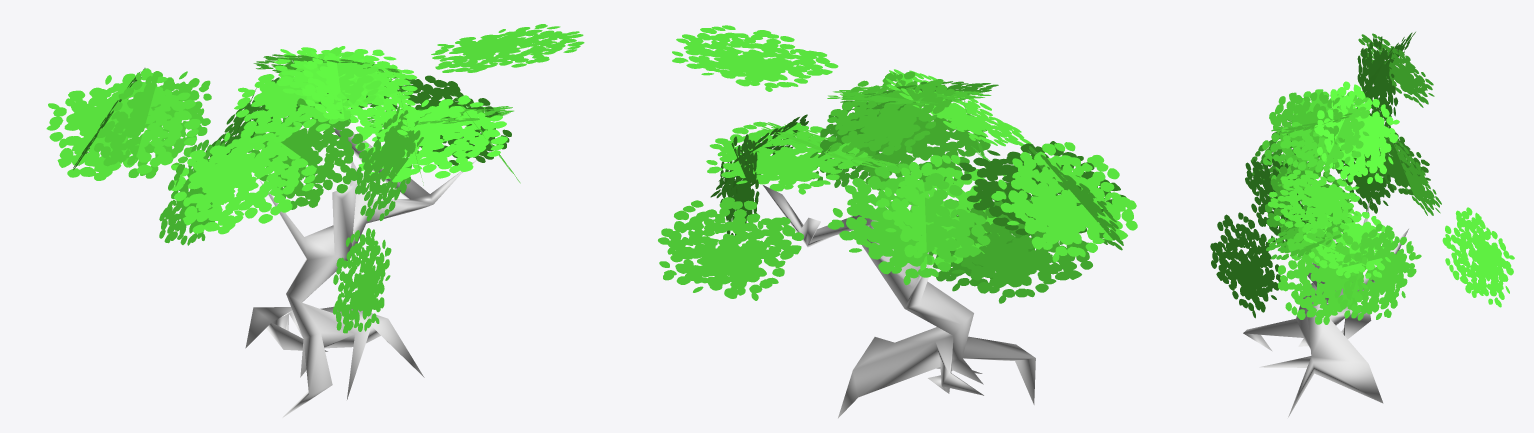
File: TreeA 2 LOD2.fbx
3 renders of one model, left to right at view 1: azimuth 30°, elevation 25°; view 2: azimuth 150°, elevation 25°; view 3: azimuth 270°, elevation 25°, orthographic. The views are drawn at different scales.
Visible parts, largest first — view 1: TreeA 2 LOD2; view 2: TreeA 2 LOD2; view 3: TreeA 2 LOD2.
Part boxes in pixels (x1=…): TreeA 2 LOD2: x1=46, y1=24, x2=584, y2=417; TreeA 2 LOD2: x1=658, y1=25, x2=1137, y2=418; TreeA 2 LOD2: x1=1210, y1=32, x2=1514, y2=417.
Size of the model in its own units: 6.7 by 6.84 by 10.59.
